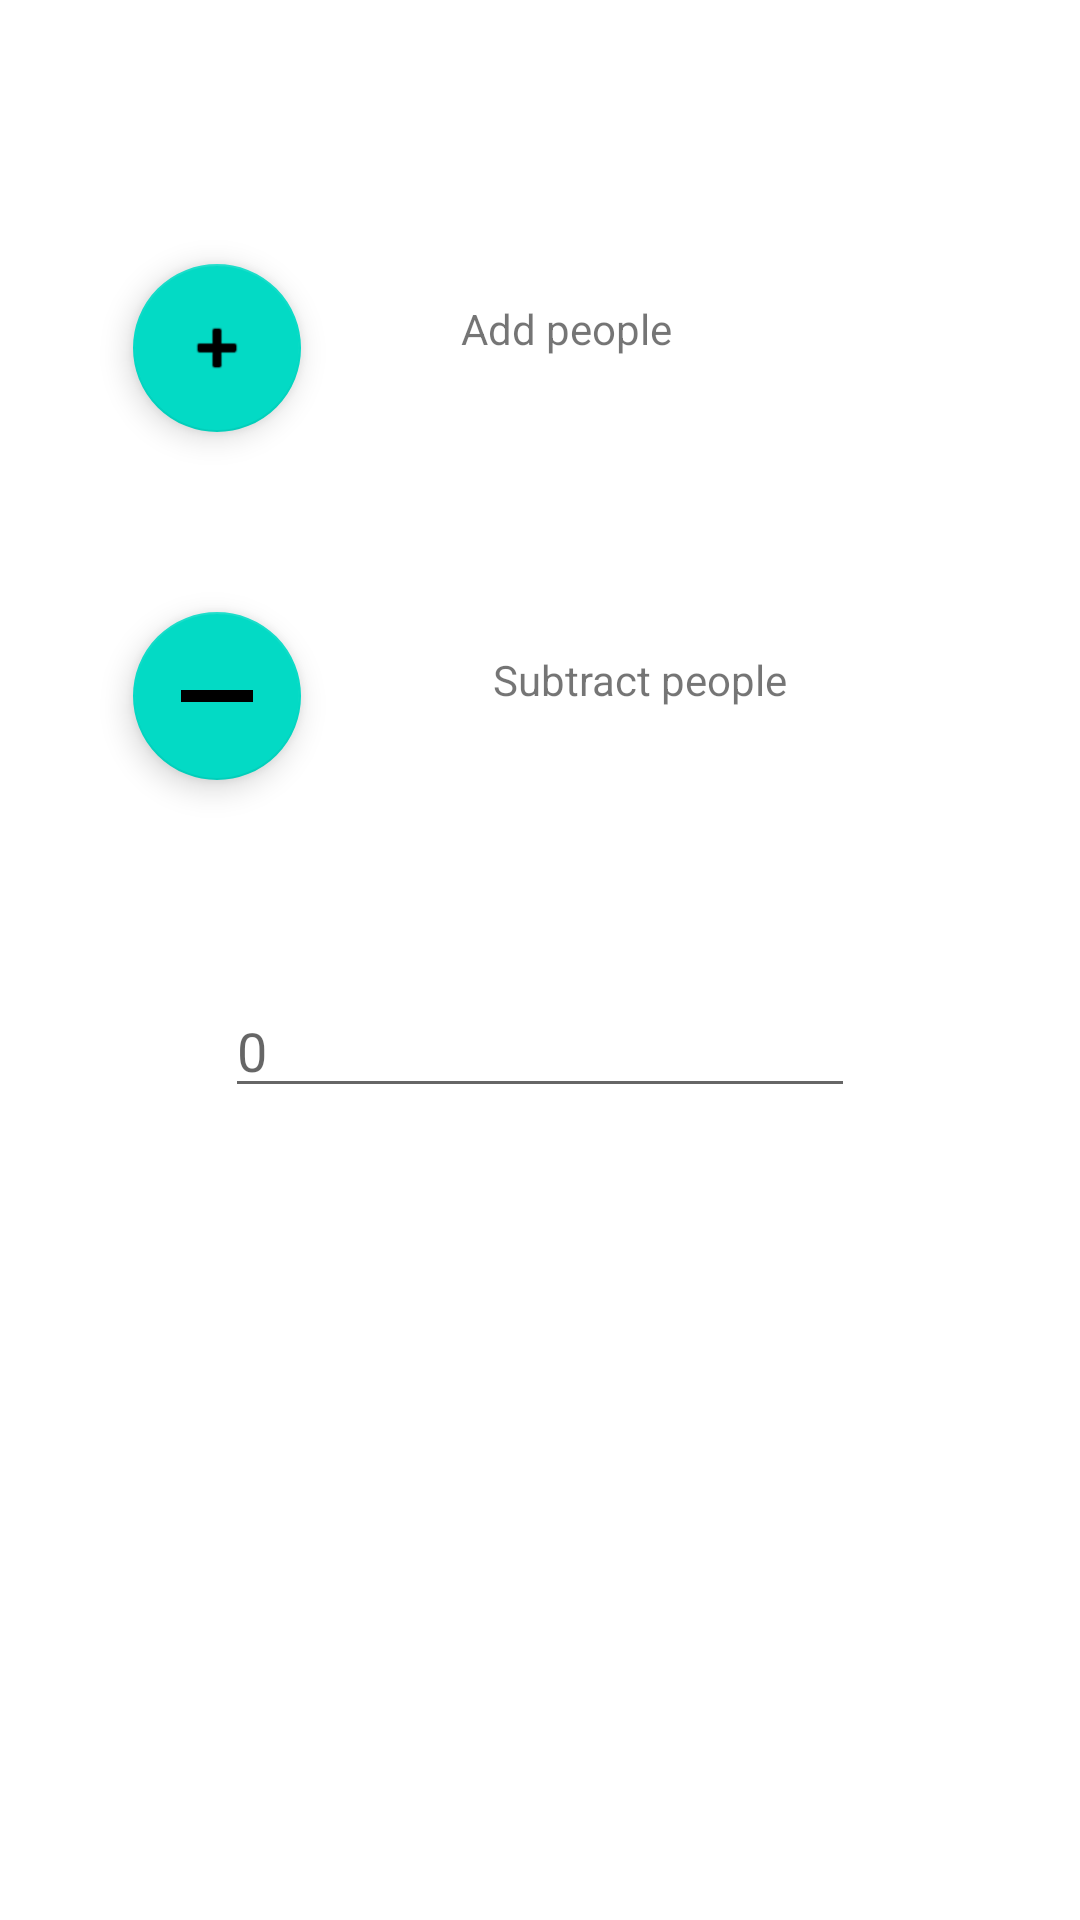

Point at icon controls on the screen. Image size 1080px x 1920px, points as (x=x, y=y).
add: (x=217, y=348)
